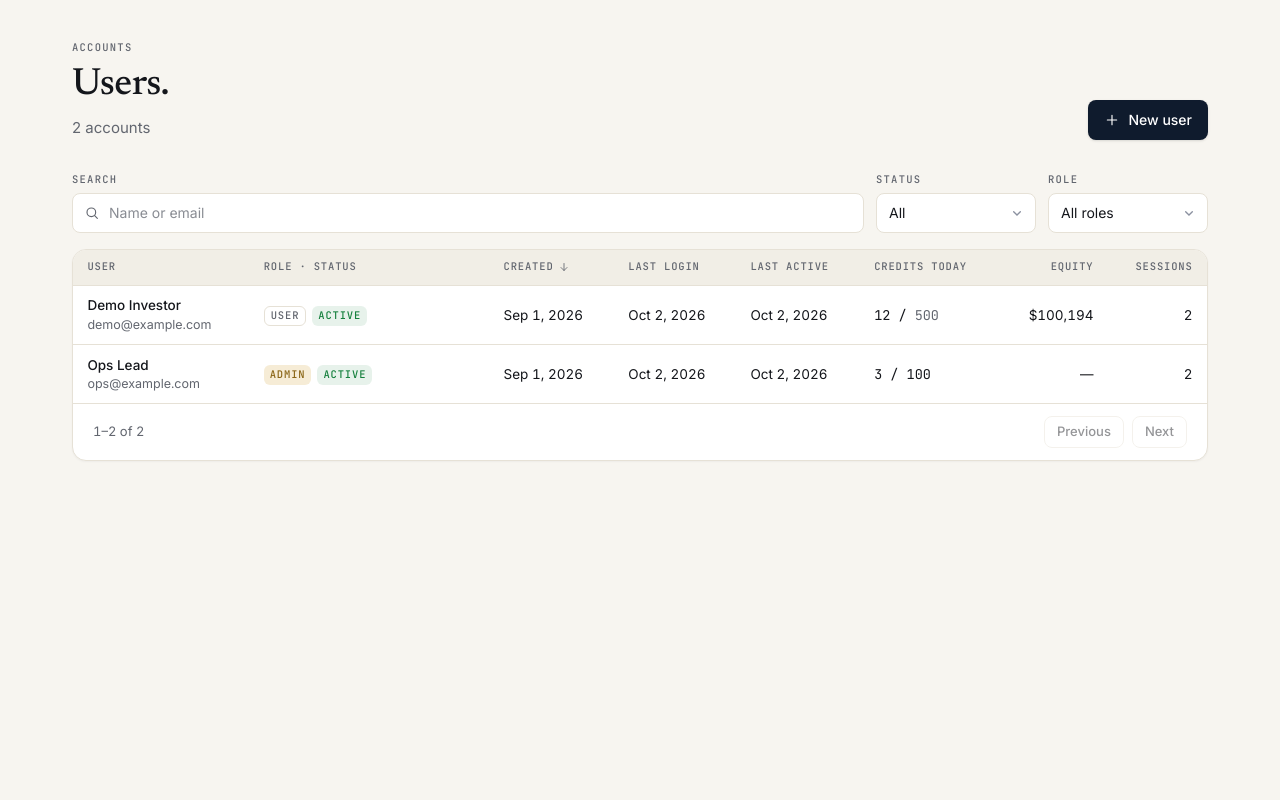
Test: New user › starts the account with showcase content from the chosen account and lists what was copied
This screenshot has width=1280, height=800.
Step 1. Click the button "New user" → (1148,120), box [1088,100,1208,140]
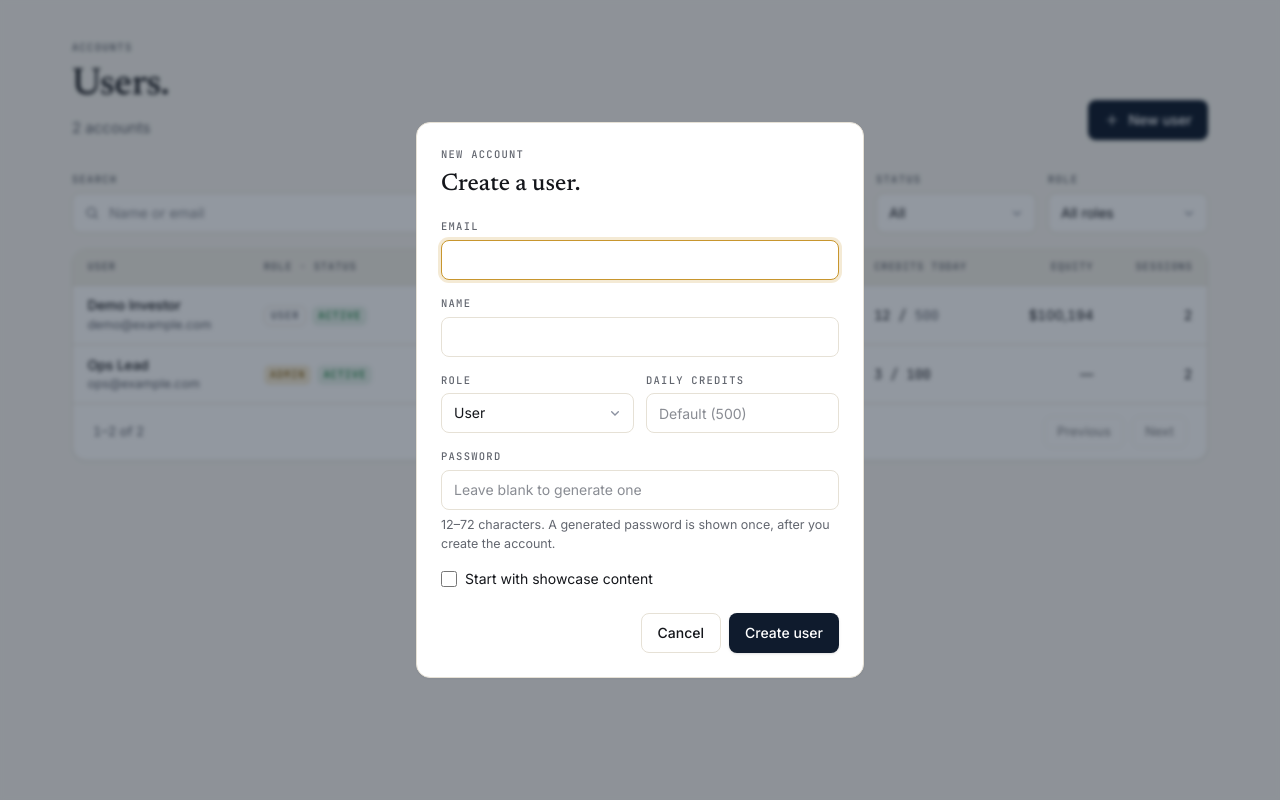
Step 2. Type "  Ann@Example.com " into the field labelled "Email" → (640,260), box [441,240,839,280]
Step 3. Type "Ann Lee" into the field labelled "Name" → (640,337), box [441,317,839,357]
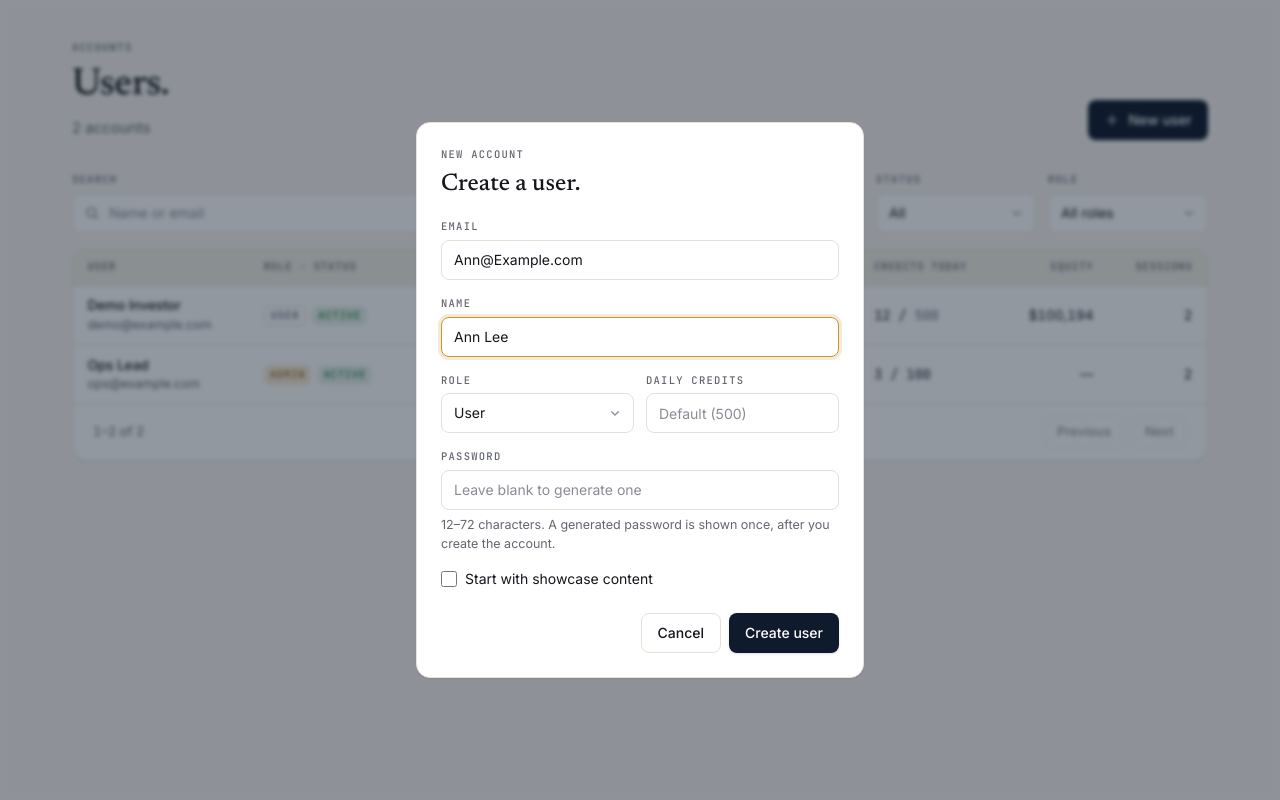
Step 4. Type "correct horse battery" into the password field labelled "Password" → (640,490), box [441,470,839,510]
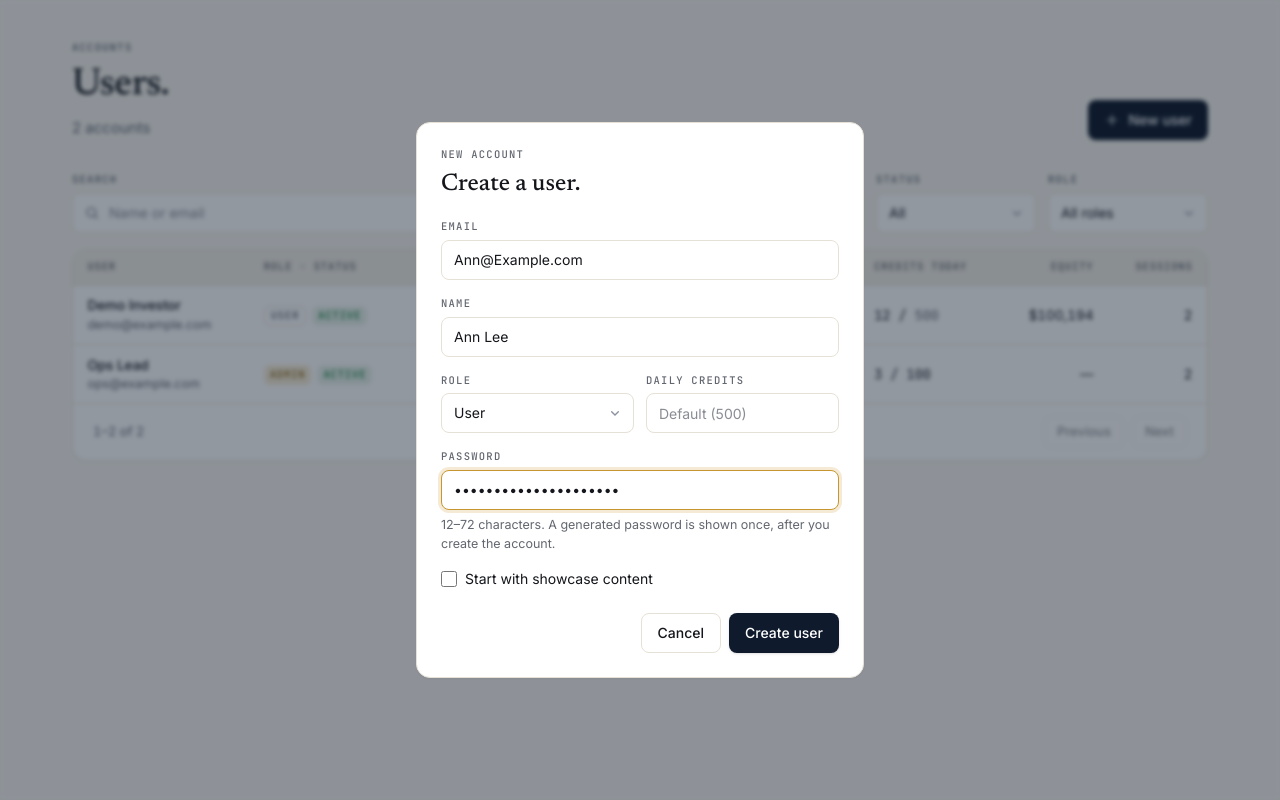
Step 5. Click the checkbox labelled "Start with showcase content" → (449,580), box [441,572,457,588]
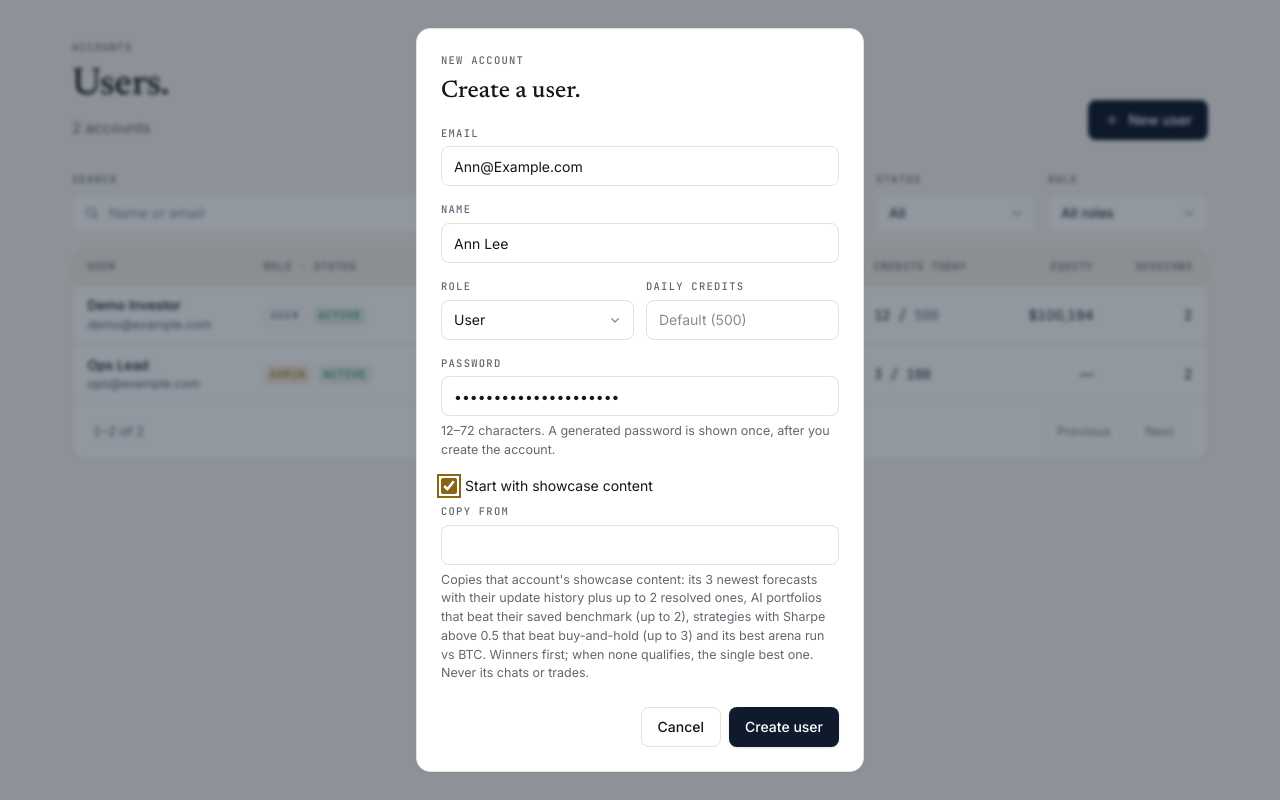
Expected: the text "Copies that account's showcase content" shows "Copies that account's showcase content: its 3 newest forecasts with their update history plus up to 2 resolved ones, AI portfolios that beat their saved benchma", [441,572,825,680]
Expected: the field labelled "Copy from" is empty
Step 6. Type "showcase@example.com" into the field labelled "Copy from" → (640,545), box [441,525,839,565]
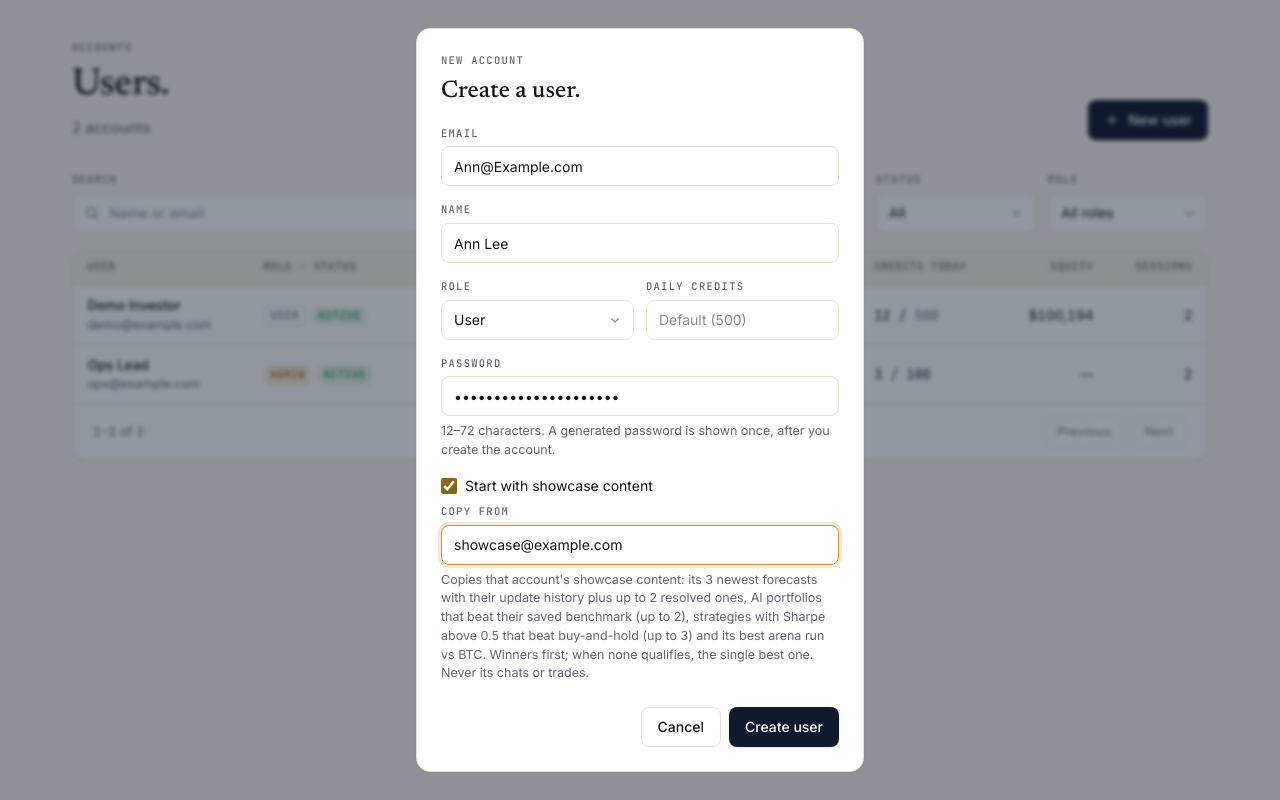
Step 7. Click the button "Create user" → (784,727), box [729,707,839,747]
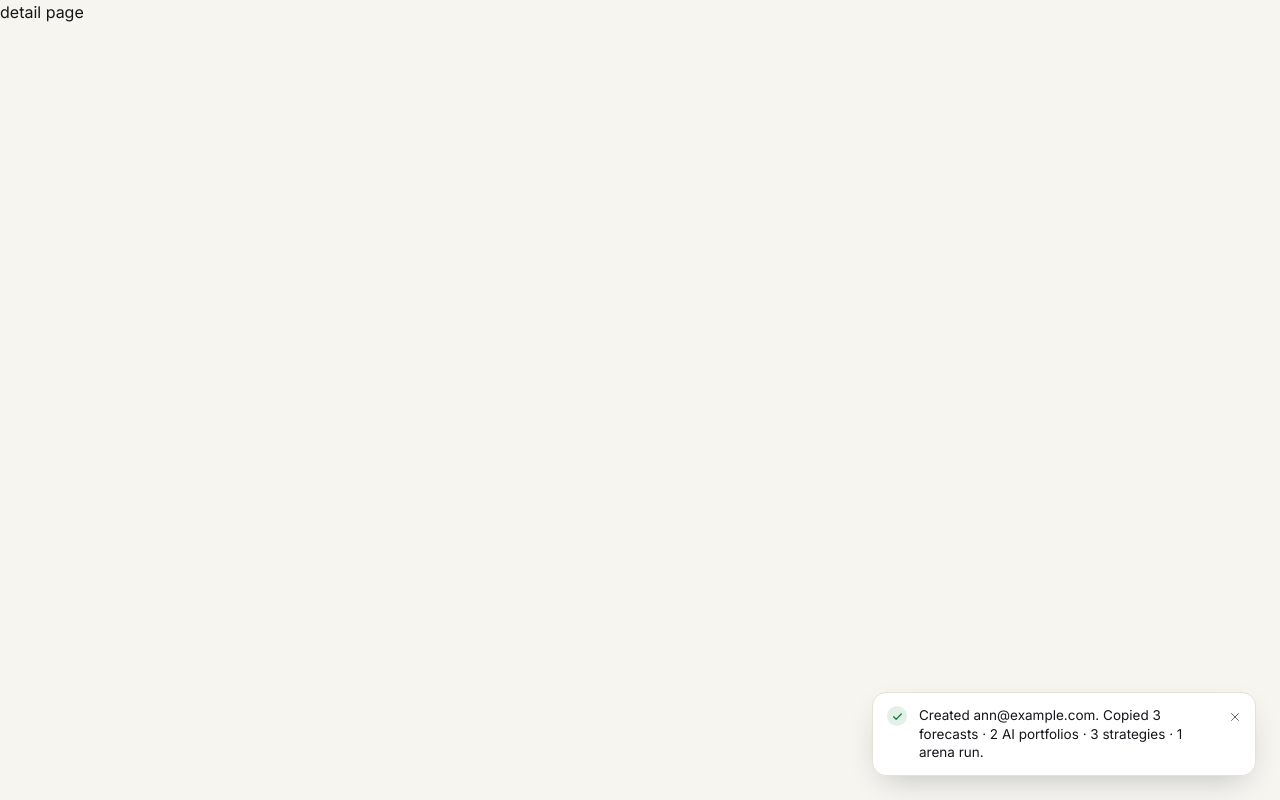
Expected: the text "Created ann@example.com. Copied 3 forecasts · 2 AI portfolios · 3 strategies · 1 arena run." is shown, [919,707,1182,760]
